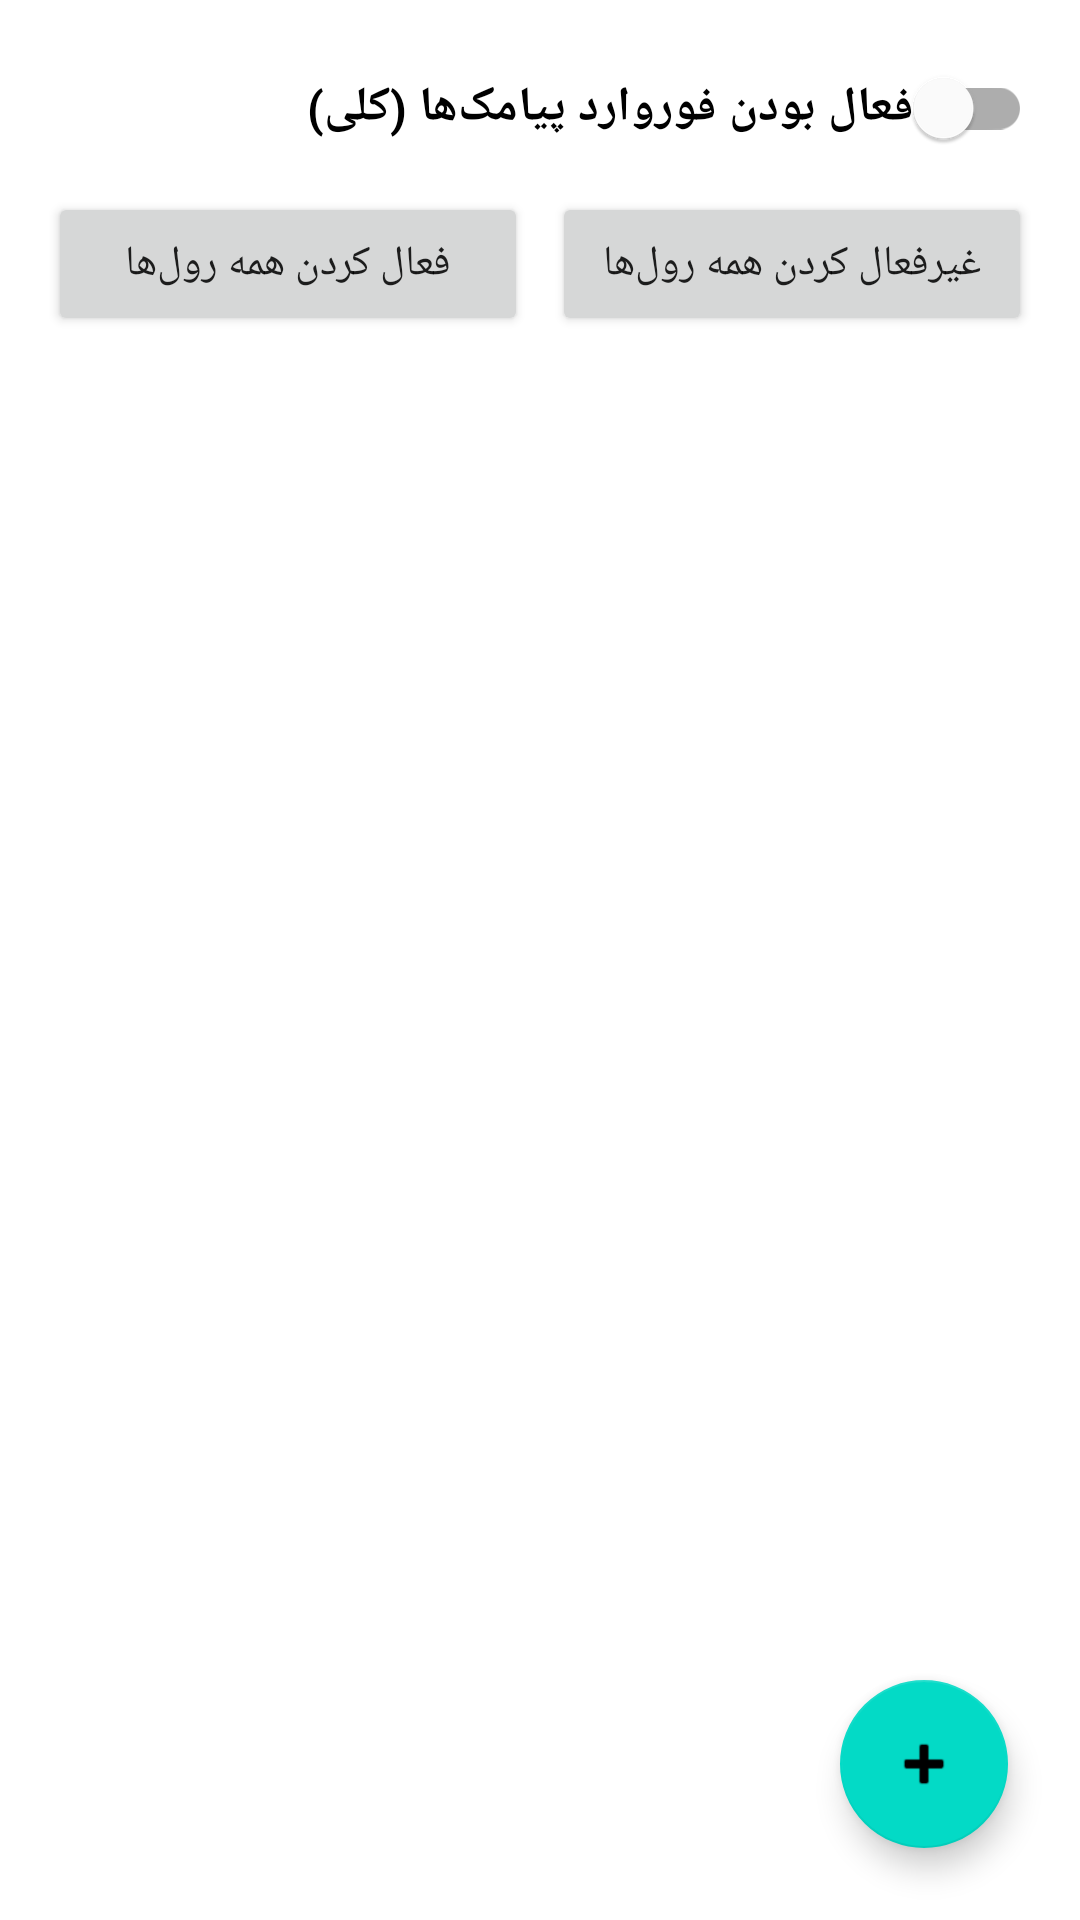

Point at icon controls on the screen. Image size 1080 × 1920, points as (x=x, y=y).
افزودن رول: (x=924, y=1764)
